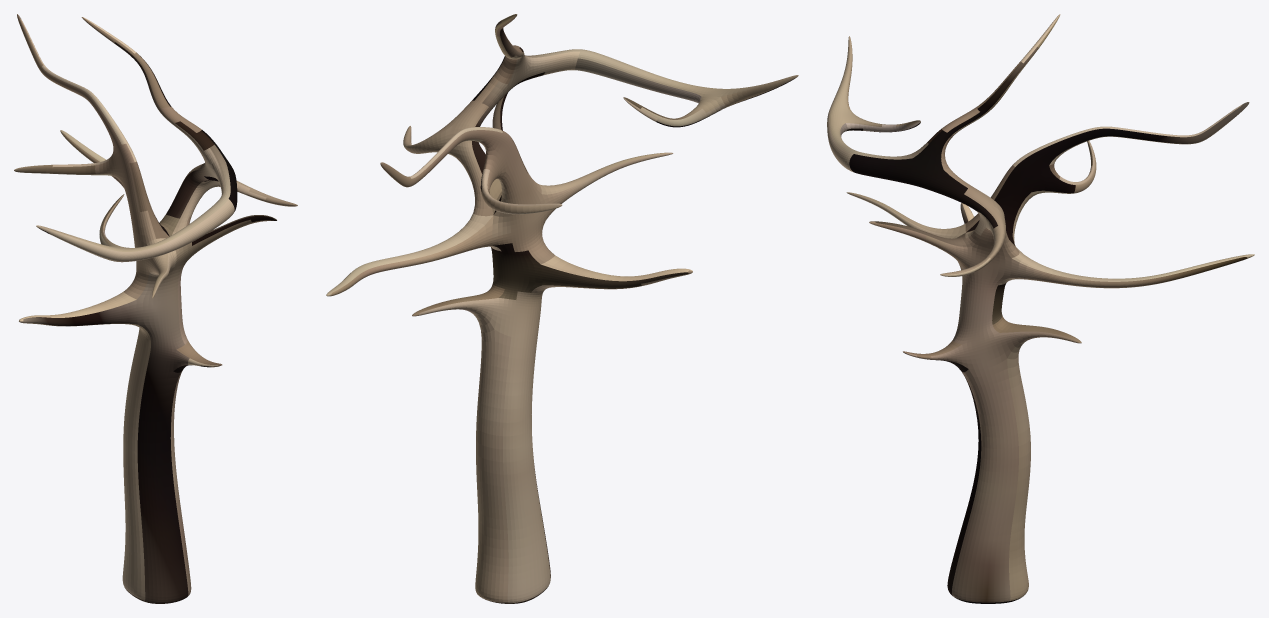
File: arbol 1.fbx
3 renders of one model, left to right at view 1: azimuth 30°, elevation 25°; view 2: azimuth 150°, elevation 25°; view 3: azimuth 270°, elevation 25°, orthographic. The views are drawn at different scales.
Visible parts, largest first — view 1: Arbol; view 2: Arbol; view 3: Arbol.
Part boxes in pixels (left/top/right/bottom): Arbol: left=14, top=14, right=297, bottom=603; Arbol: left=326, top=14, right=798, bottom=603; Arbol: left=827, top=14, right=1254, bottom=603.
Size of the model in its own units: 1038 by 1799 by 1246.
